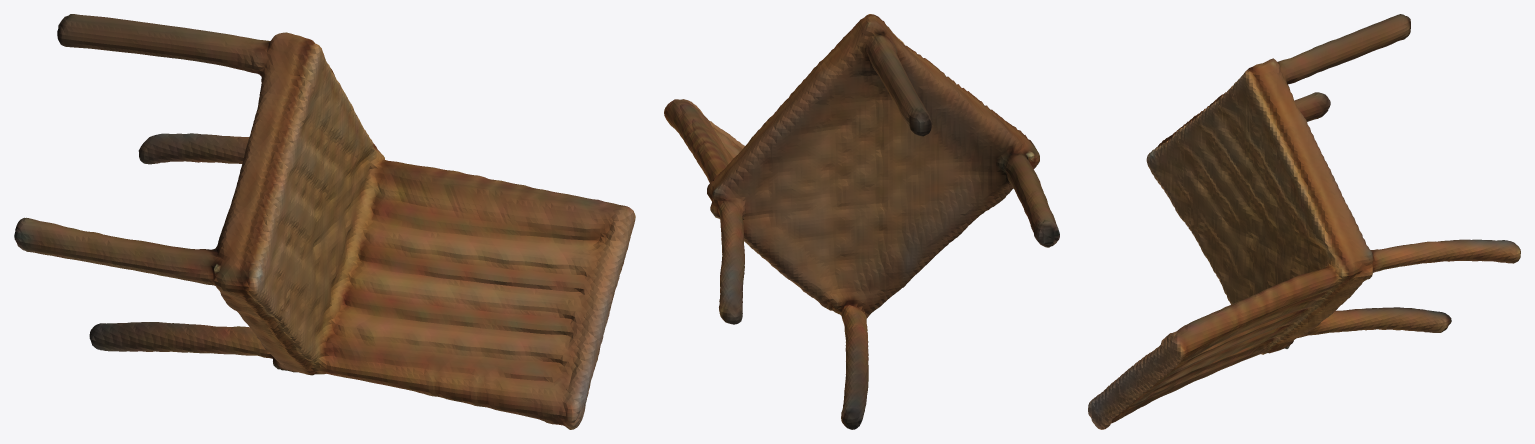
The picture shows the model from 3 angles, left to right: view 1: azimuth 30°, elevation 25°; view 2: azimuth 150°, elevation 25°; view 3: azimuth 270°, elevation 25°; orthographic projection. The views are drawn at different scales.
Bounding box in the file's own units: 1 × 0.6634 × 0.8592.
